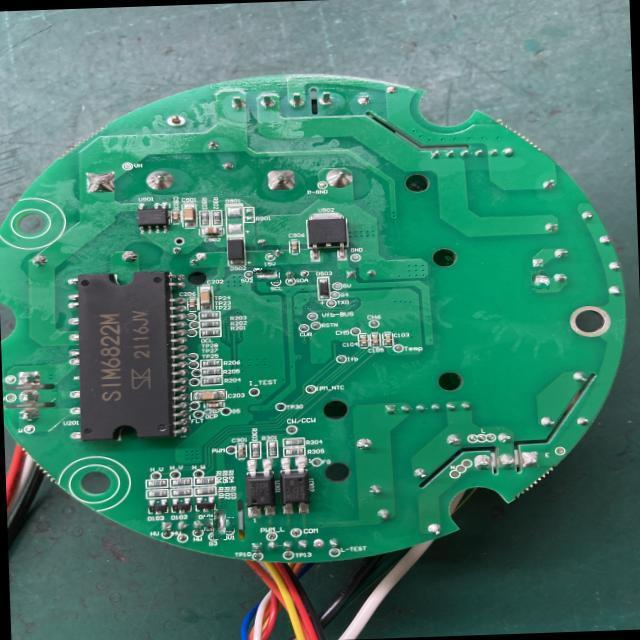damged: (208, 514, 230, 536), (253, 268, 280, 282), (531, 271, 550, 289)
